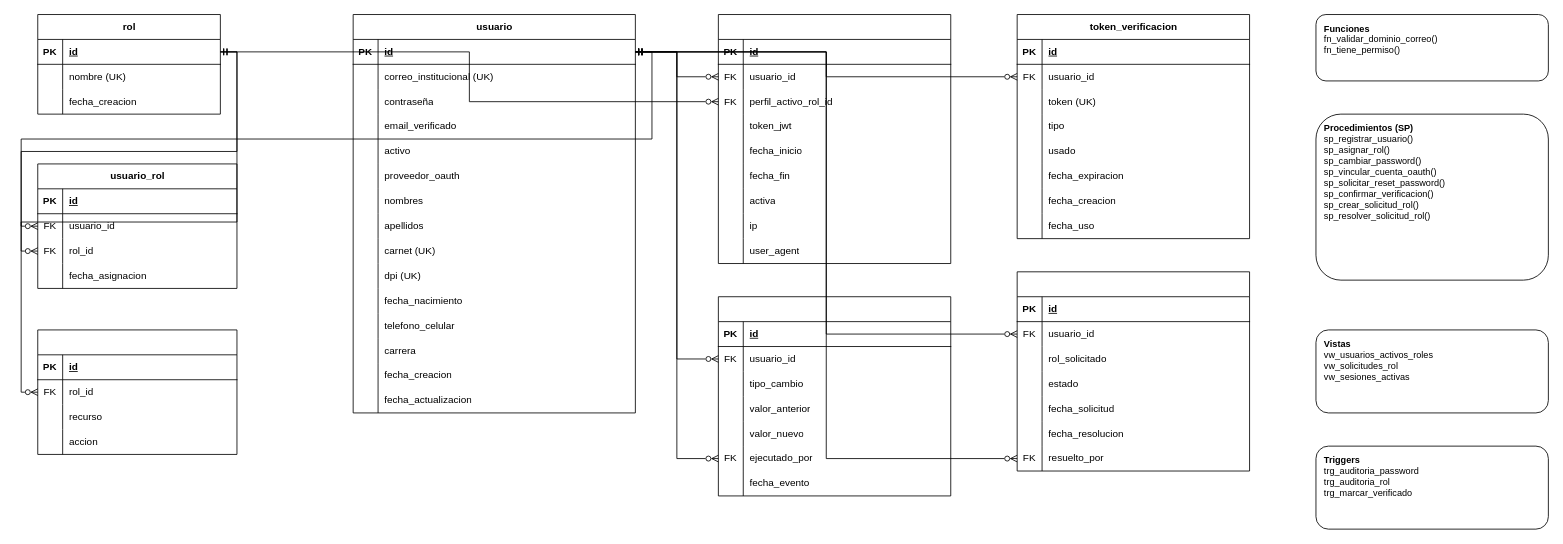
This 1563x544 diagram has some shape labels left out. Here are the shapes that lost their labels. From the top down, the box of each, then its label:
(718, 14, 951, 264): sesion
(1016, 271, 1250, 471): solicitud_rol
(37, 329, 237, 454): permiso_rbac
(718, 296, 951, 496): auditoria
